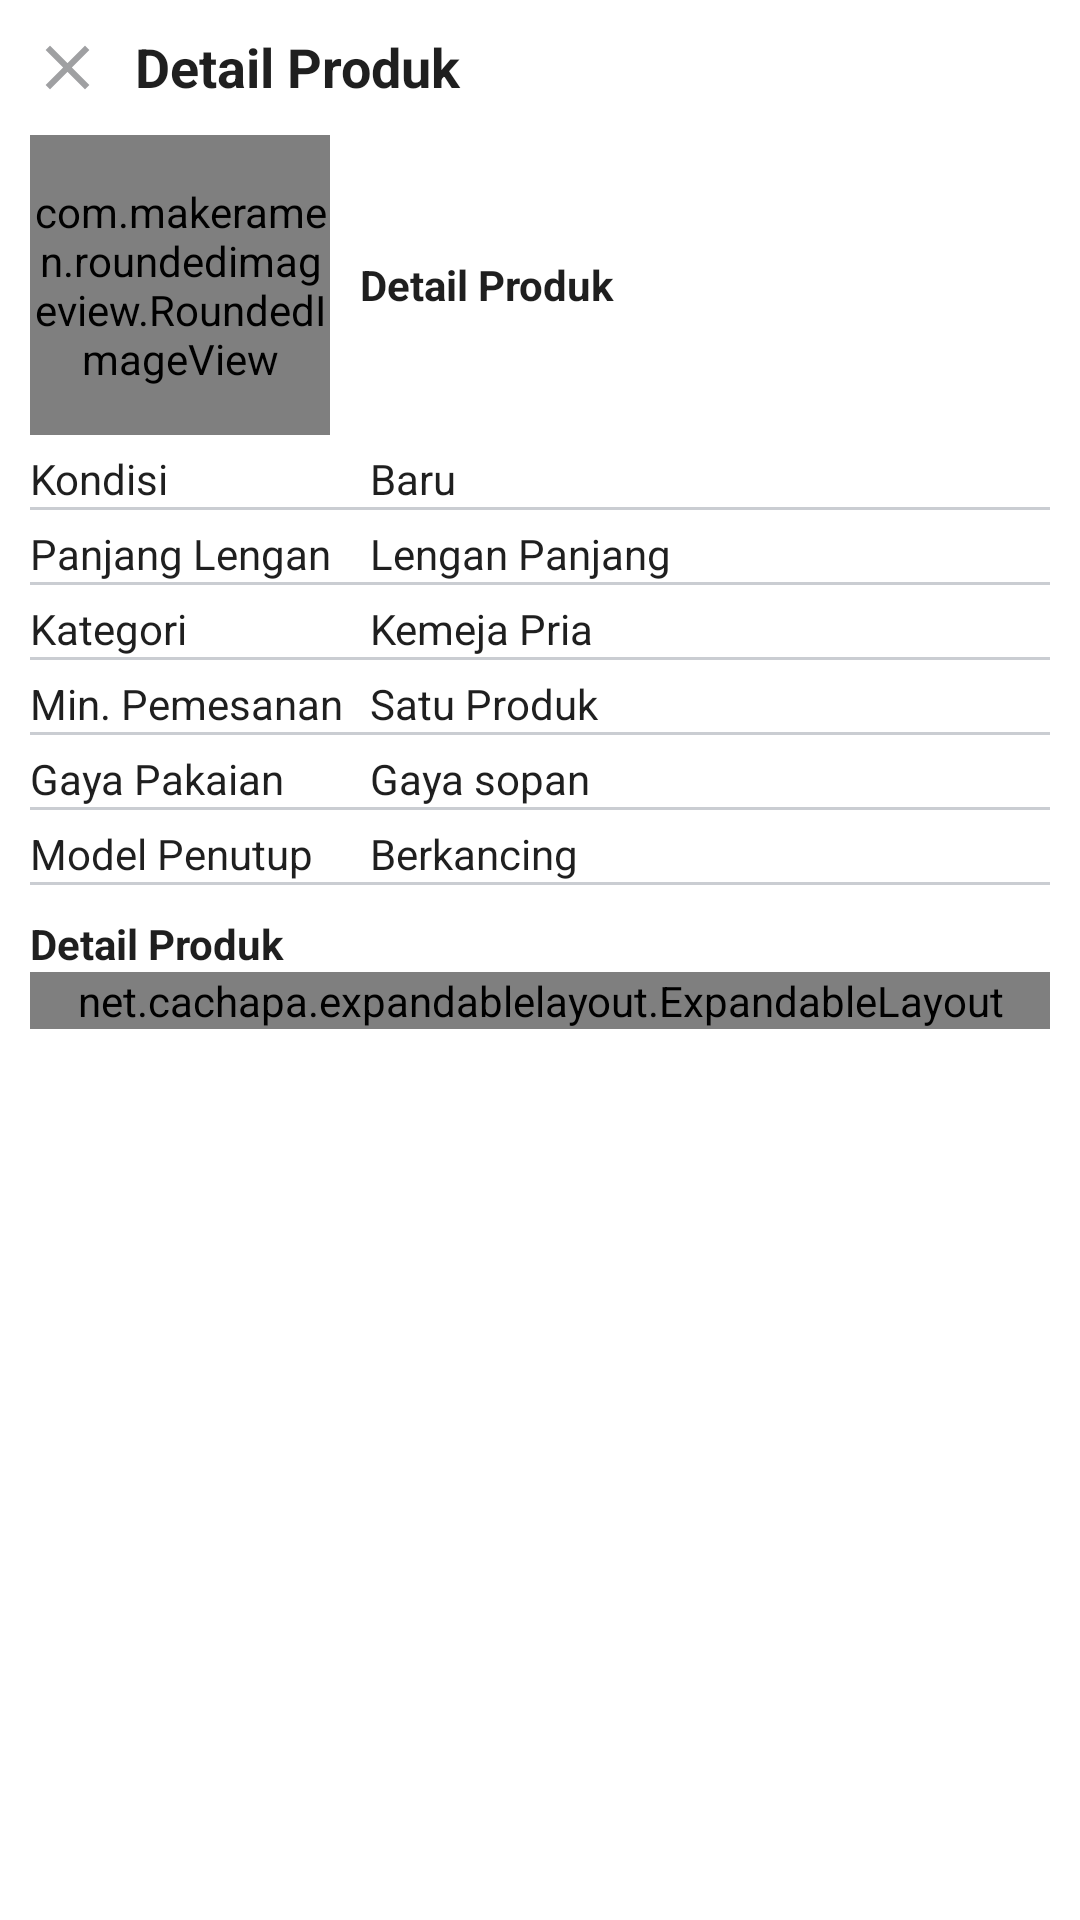

Named icons in this screenshot (1080px×1920px) and their bounding boxes, (x1, y1, x2, y2):
close: (46, 46, 89, 89)
